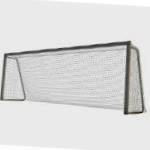goals: (1, 39, 148, 116)
